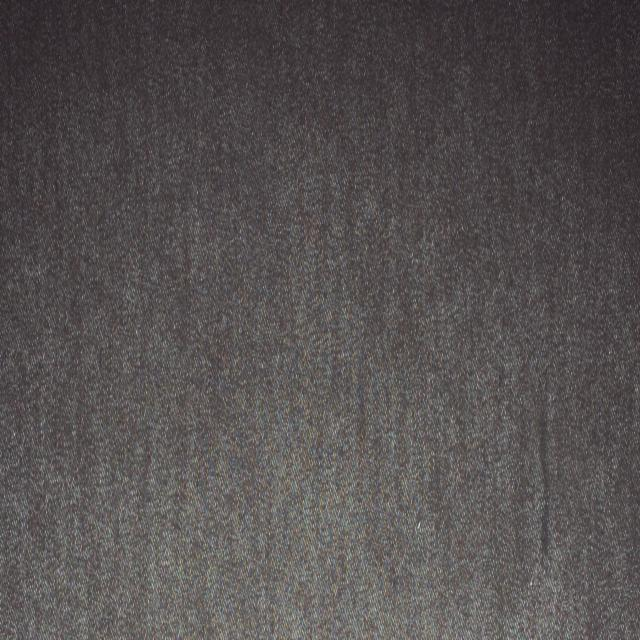Stain: (535, 383, 554, 566)
